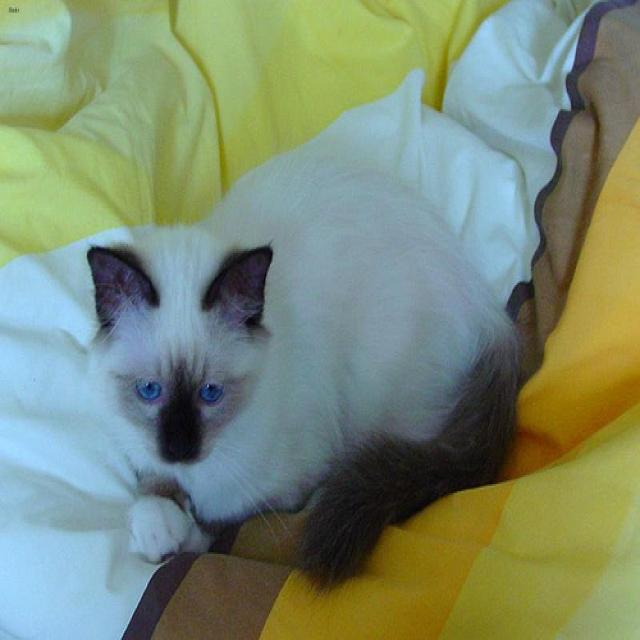Birman: (85, 234, 285, 488)
